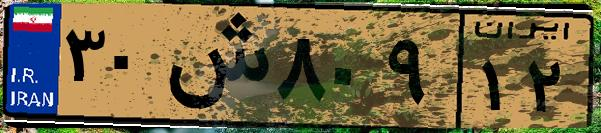0: (330, 28, 385, 110), (110, 28, 158, 98)
1: (475, 38, 525, 113)
2: (525, 38, 570, 115)
3: (57, 26, 110, 100)
8: (270, 28, 330, 110)
9: (385, 28, 445, 110)
ش: (158, 12, 270, 120)
